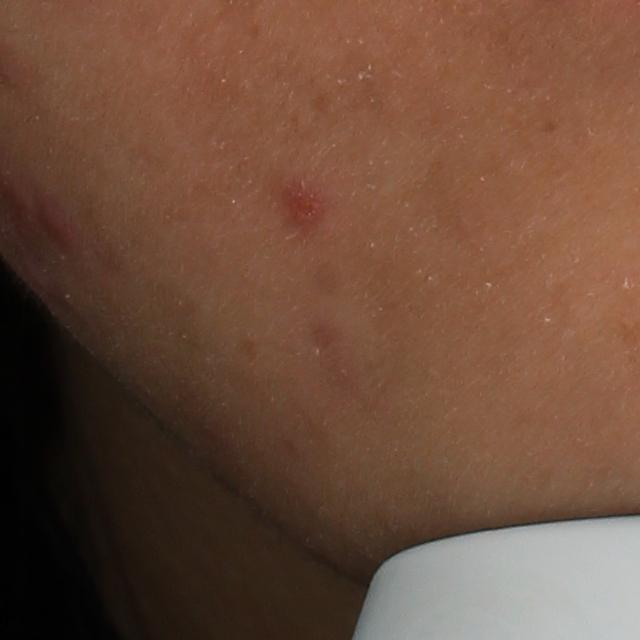papule: (278, 178, 330, 230), (42, 198, 76, 257)
